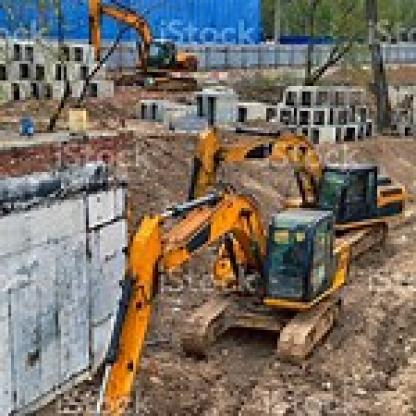excavator: (56, 95, 414, 414)
